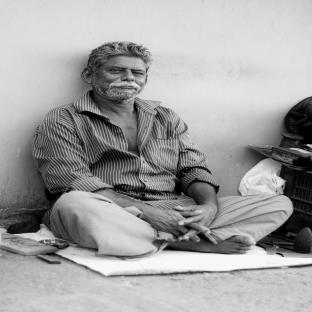Human: (33, 41, 292, 258)
